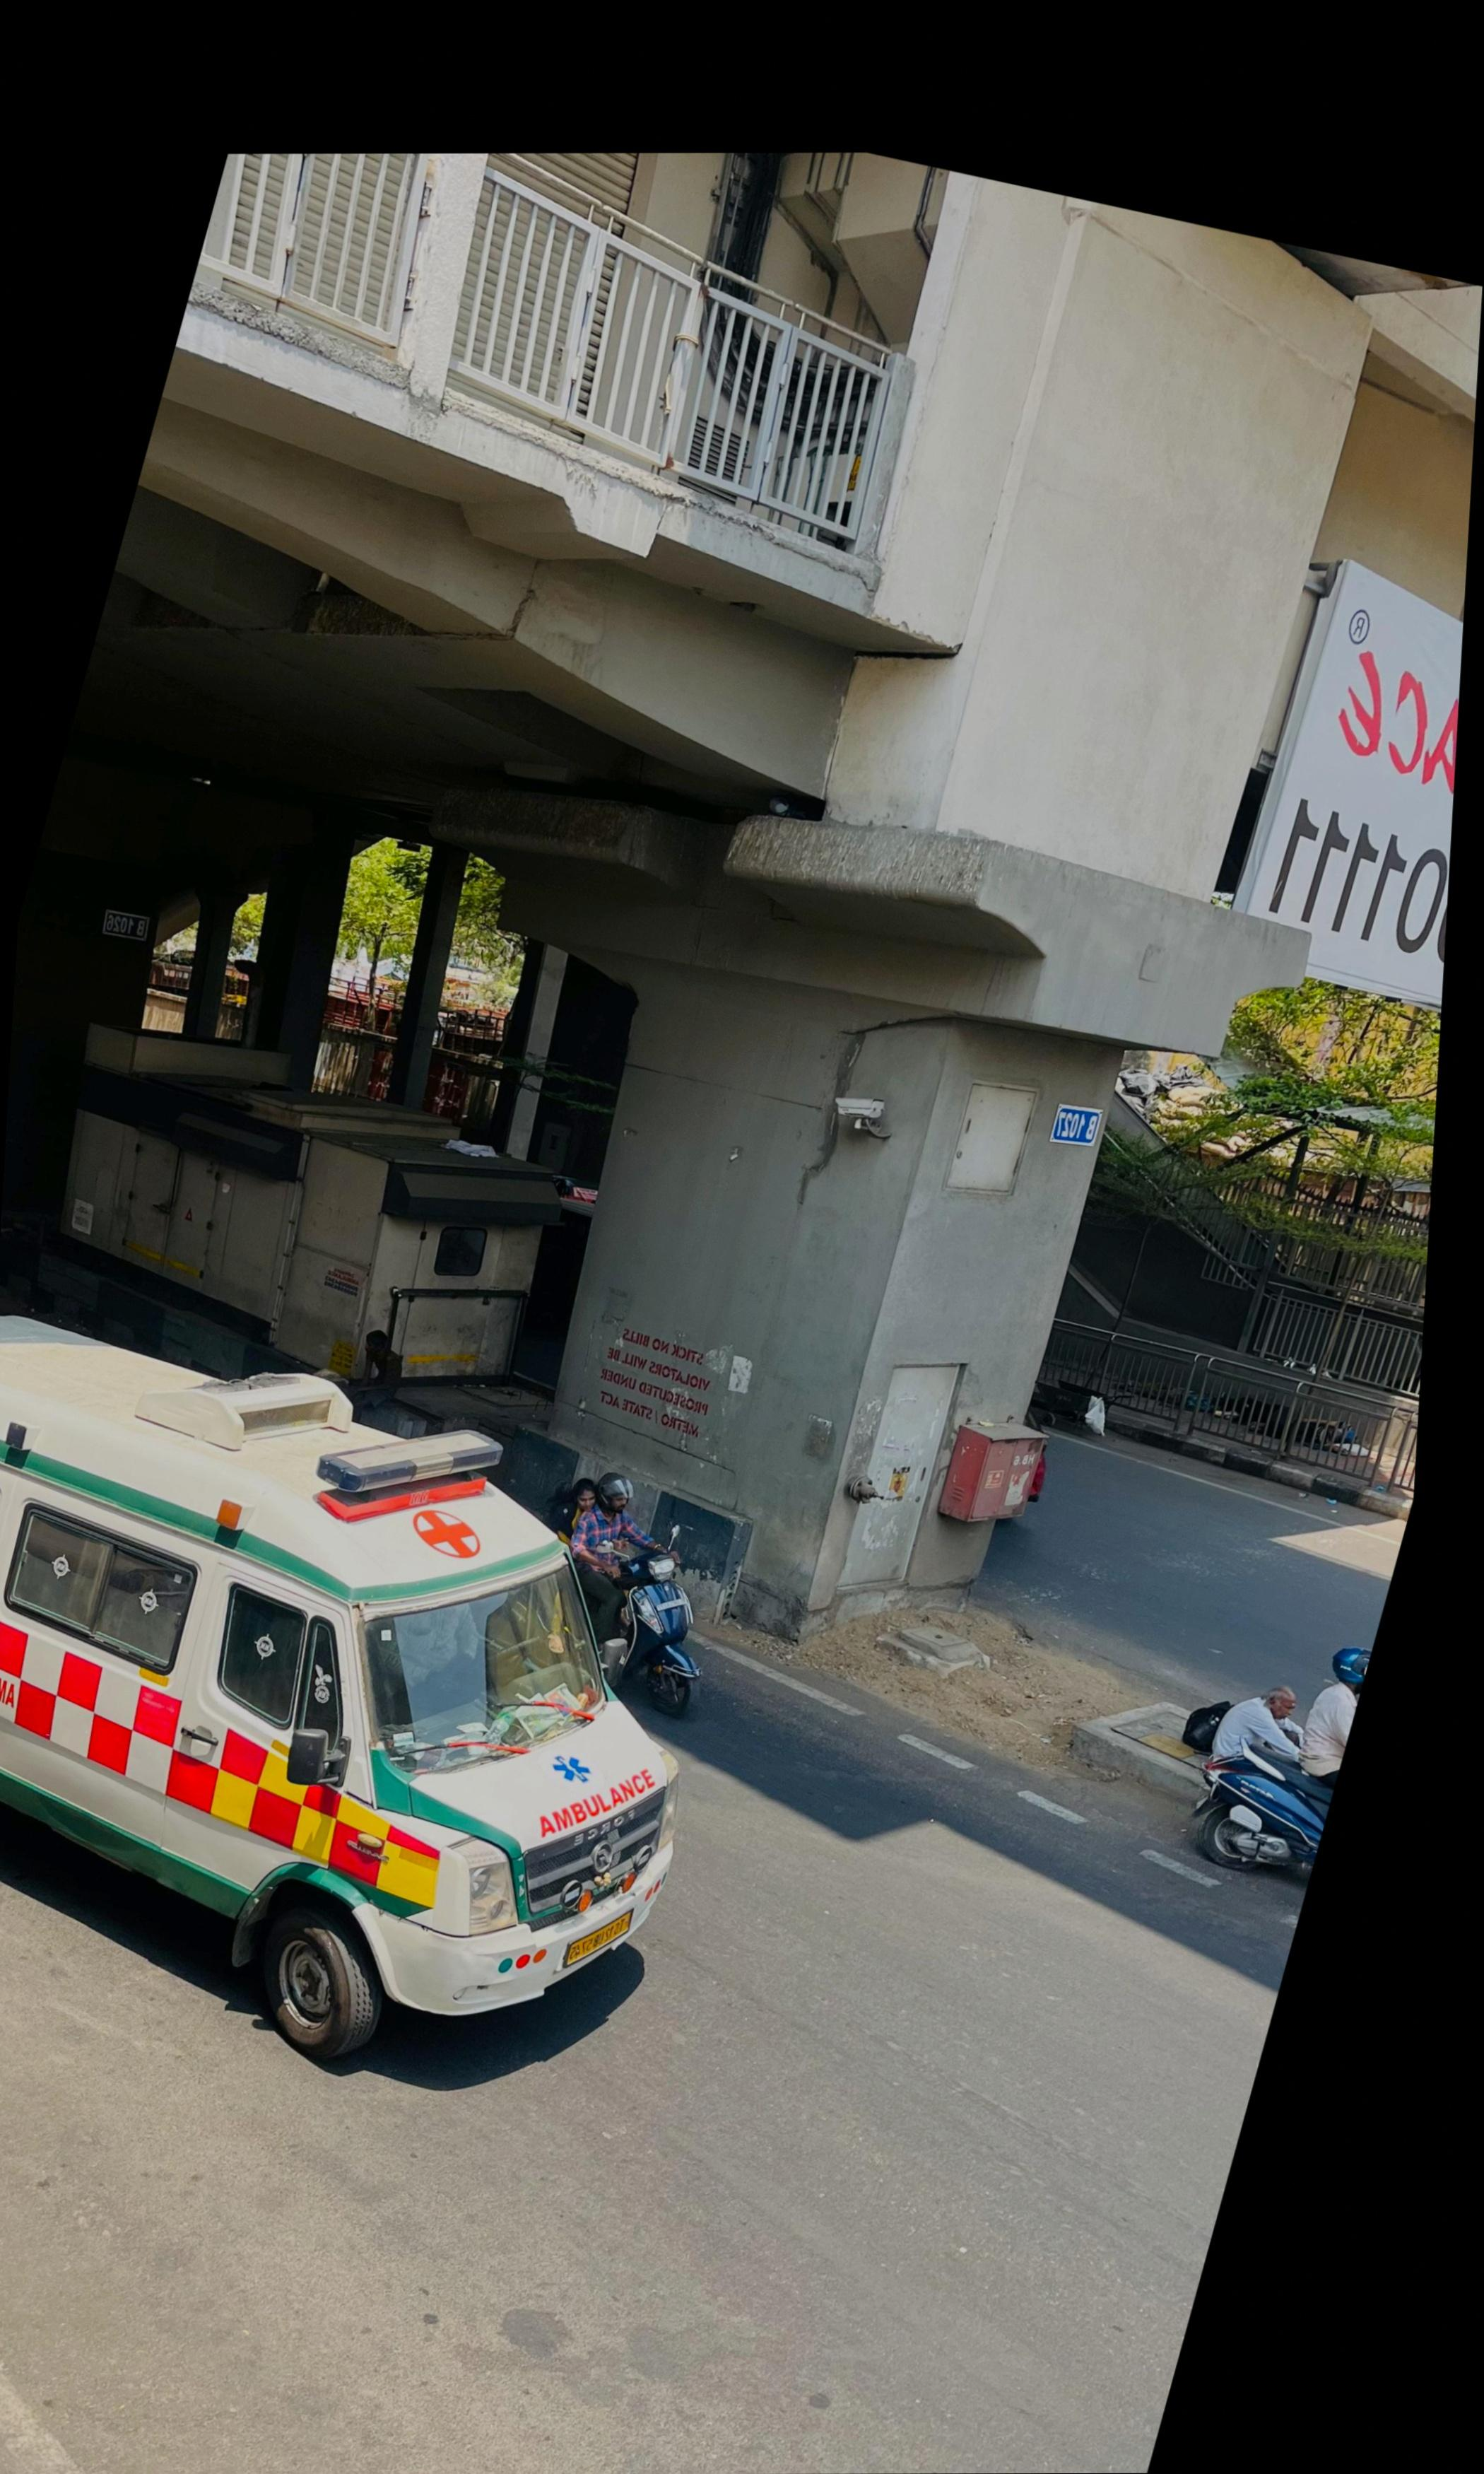ambulance: (0, 1322, 675, 2073)
